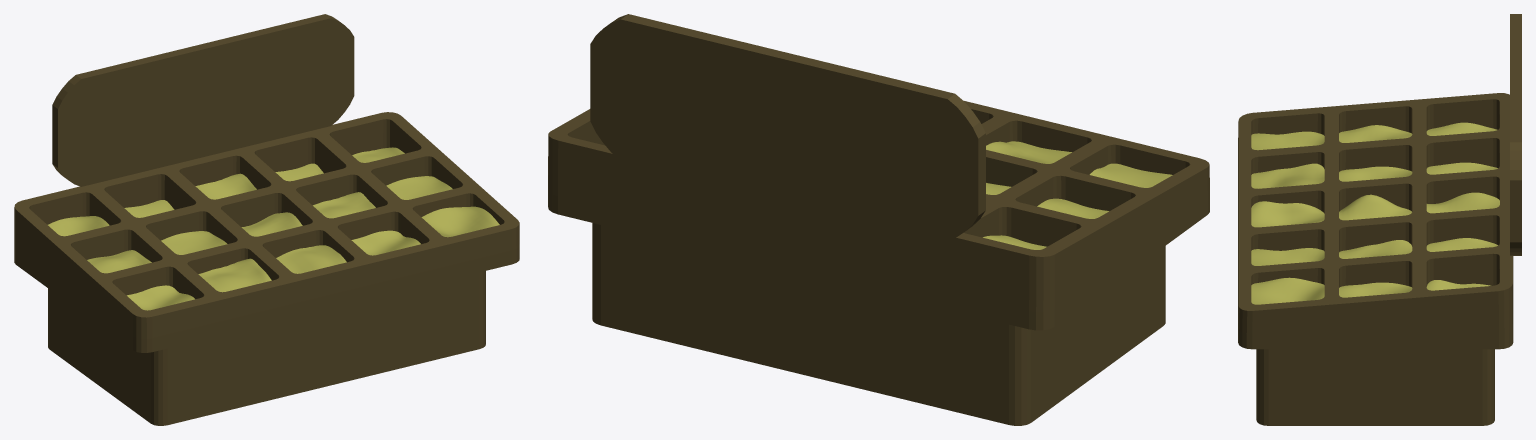
Rendered from tavuk_tezgahi_3.fbx.
3 renders of one model, left to right at view 1: azimuth 30°, elevation 25°; view 2: azimuth 150°, elevation 25°; view 3: azimuth 270°, elevation 25°, orthographic. The views are drawn at different scales.
Parts seen in each view (by area): view 1: Plane.004, Cube.005, Plane.007, Plane.001; view 2: Plane.004, Cube.005, Plane.007, Plane.001; view 3: Plane.004, Plane.007, Plane.001, Cube.005.
Part boxes in pixels (left/top/right/bottom): Plane.004: left=14, top=112, right=519, bottom=352; Cube.005: left=52, top=14, right=354, bottom=186; Plane.007: left=48, top=271, right=485, bottom=425; Plane.001: left=48, top=147, right=499, bottom=310; Plane.004: left=548, top=101, right=1209, bottom=330; Cube.005: left=590, top=14, right=985, bottom=240; Plane.007: left=592, top=223, right=1165, bottom=425; Plane.001: left=983, top=141, right=1172, bottom=249; Plane.004: left=1238, top=93, right=1513, bottom=349; Plane.007: left=1256, top=349, right=1494, bottom=425; Plane.001: left=1251, top=122, right=1499, bottom=304; Cube.005: left=1510, top=14, right=1521, bottom=255.
Bounding box in the file's own units: 326 × 202 × 197.
